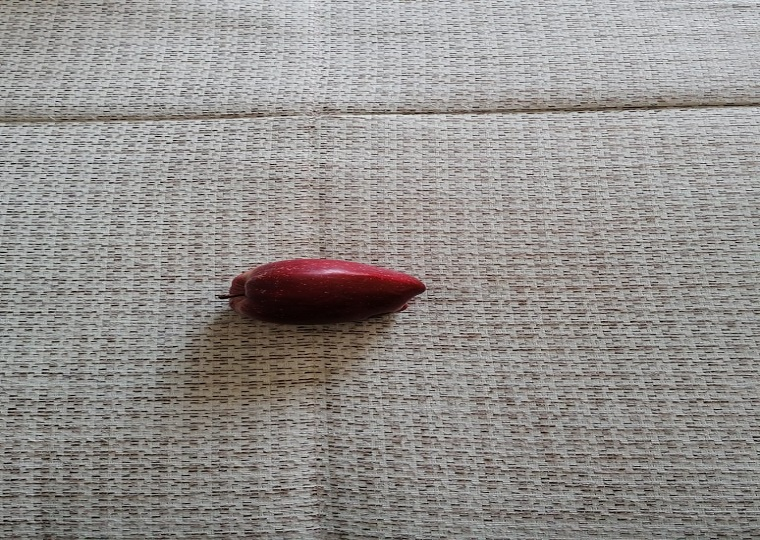elma: (218, 257, 427, 327)
